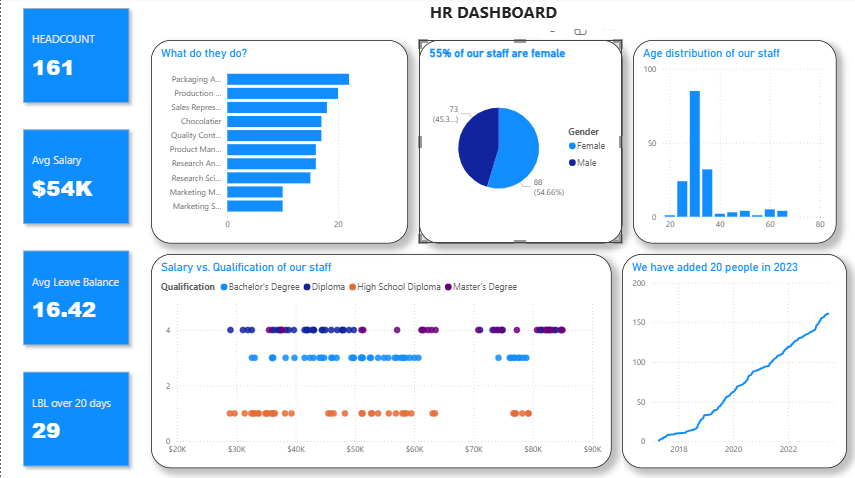

The dashboard page shown, as its layout file describes it:
{"tool":"powerbi","page":{"name":"Page 10","canvas":[1280,720],"ordinal":9},"visuals":[{"type":"cardVisual","fields":{"Data":["data.HEADCOUNT","data.Avg Salary","data.Avg Leave Balance","data.LBL over 20 days"]},"box":[16,0,192,720],"z":0},{"type":"clusteredBarChart","title":"What do they do?","fields":{"Category":["data.Job Title"],"Y":["data.HEADCOUNT"]},"box":[224,64,384,304],"z":1000},{"type":"pieChart","title":"55% of our staff are female","fields":{"Category":["data.Gender"],"Y":["data.HEADCOUNT"]},"box":[624,64,304,304],"z":2000},{"type":"columnChart","title":"Age distribution of our staff","fields":{"Y":["data.HEADCOUNT"],"Category":["data.Age (bins)"]},"box":[944,64,304,304],"z":3000},{"type":"scatterChart","title":"Salary vs. Qualification of our staff","fields":{"X":["data.Salary"],"Y":["quali.Qualification ID"],"Series":["quali.Qualification"]},"box":[224,384,688,320],"z":4000},{"type":"lineChart","title":"We have added 20 people in 2023","fields":{"Y":["data.Cumulative Headcount"],"Category":["data.Date of Join"]},"box":[928,384,336,320],"z":5000},{"type":"textbox","box":[368,0,736,48],"z":6000}]}

Visuals, with their boxes in screenshot pixels (x1, y1, x2, y2), scaled from the page's 1280x720 canvas onto the 855x478 screenshot:
cardVisual - data.HEADCOUNT x data.Avg Salary: 11 0 139 477
"What do they do?" clusteredBarChart: 150 42 406 244
"55% of our staff are female" pieChart: 417 42 620 244
"Age distribution of our staff" columnChart: 631 42 834 244
"Salary vs. Qualification of our staff" scatterChart: 150 255 609 467
"We have added 20 people in 2023" lineChart: 620 255 844 467
textbox: 246 0 737 32
